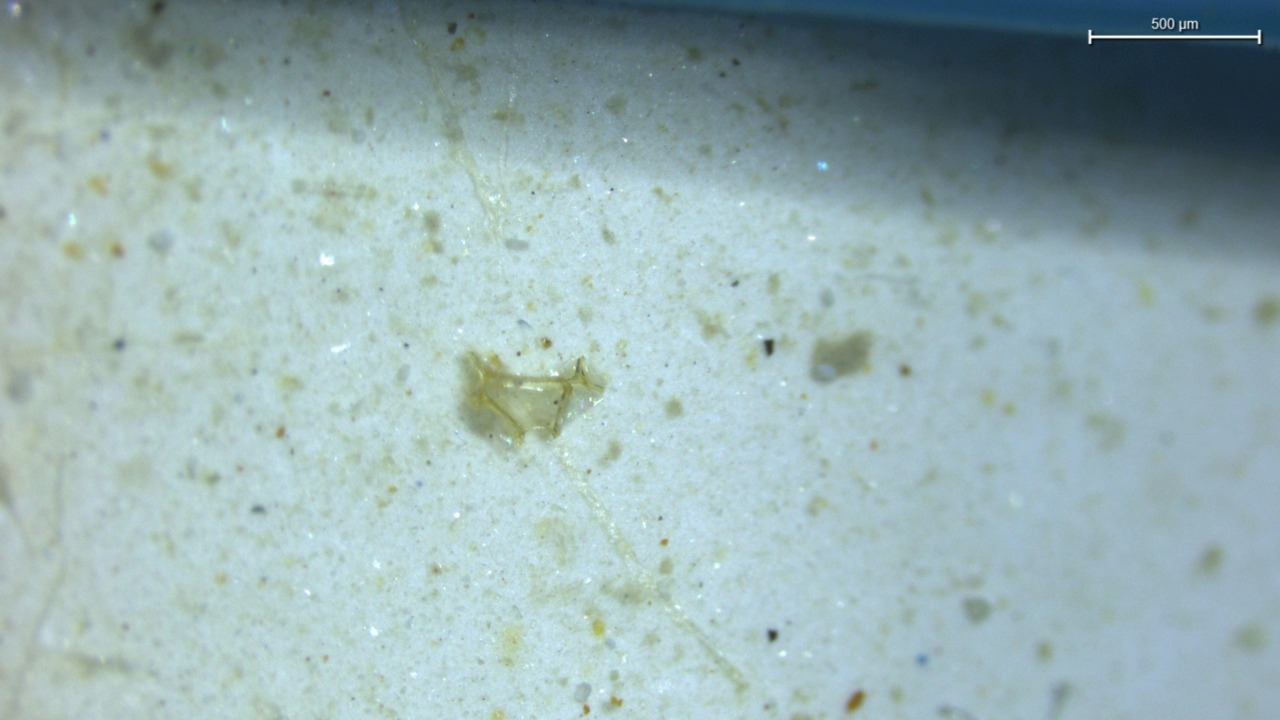microplastic_fragment: (462, 352, 604, 444)
